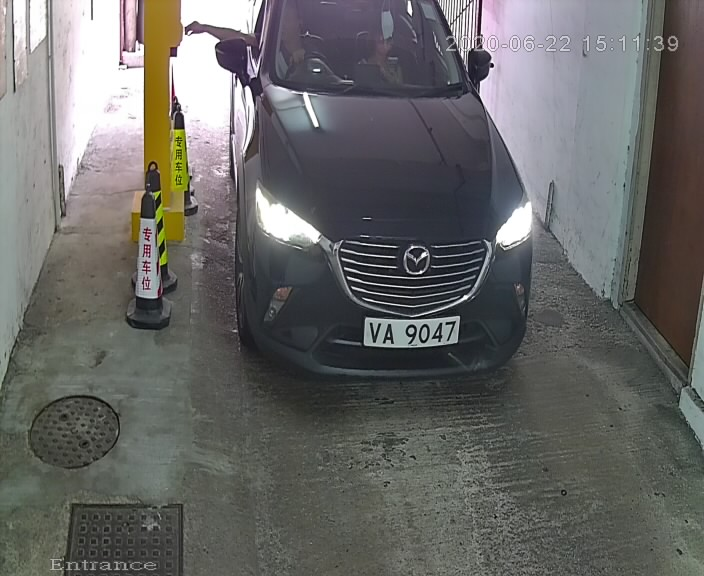privatecar: (206, 1, 565, 385)
